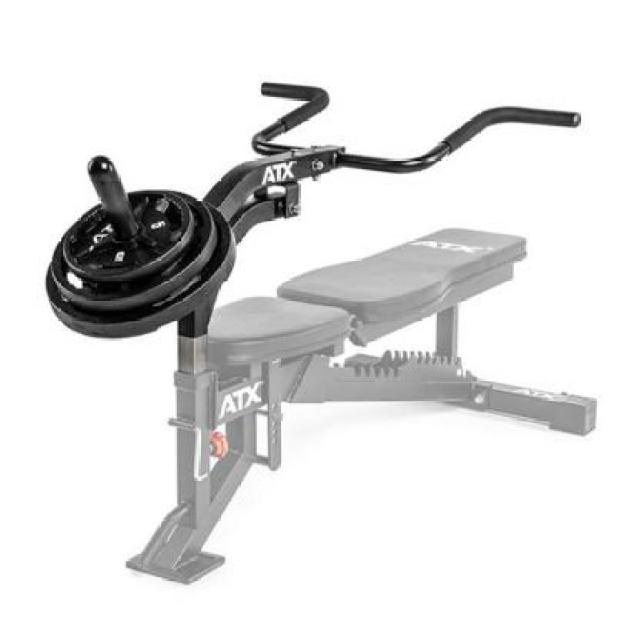seated dip machine: (47, 77, 598, 588)
